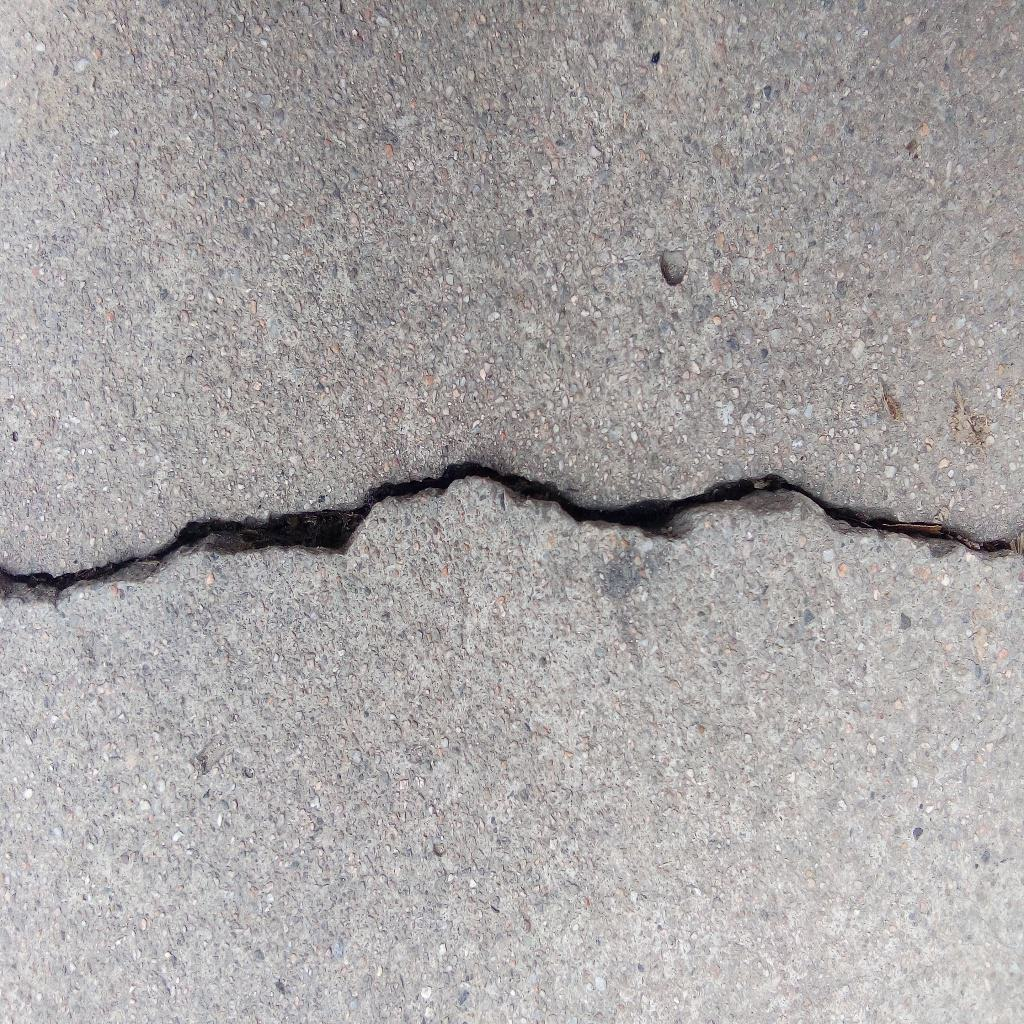Crack: (1, 457, 1024, 604)
Spalling: (659, 248, 689, 287)
